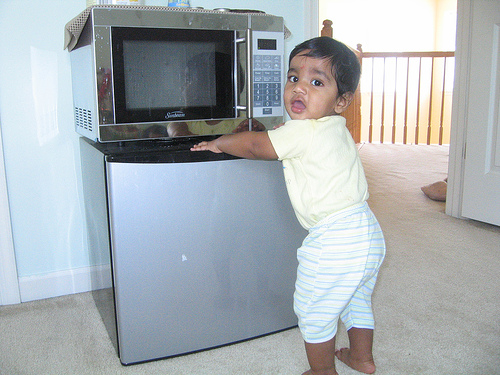without_mask: (277, 45, 351, 123)
